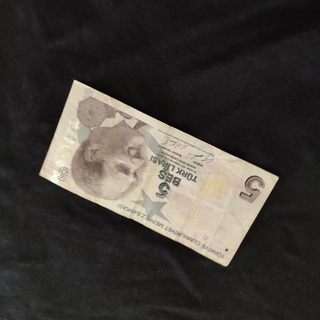5TLFront: (38, 80, 280, 267)
